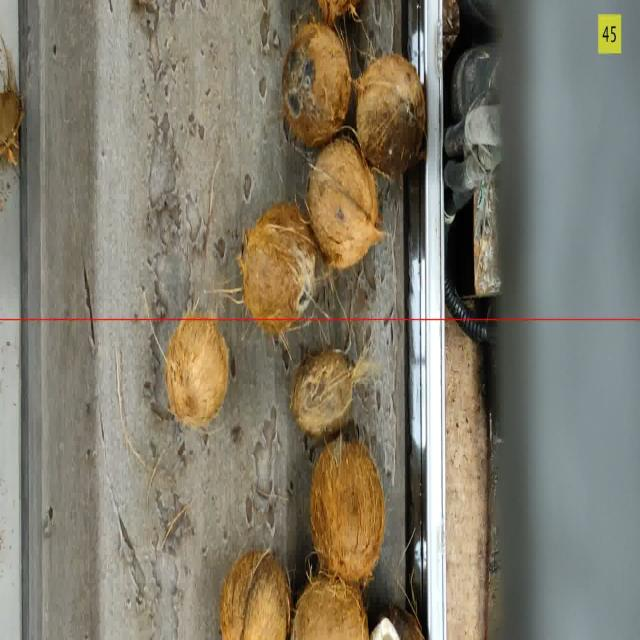Coconut-Conveyor-Belt: (310, 434, 384, 588), (356, 54, 426, 179), (246, 203, 314, 330), (280, 18, 348, 136), (310, 138, 372, 262), (168, 318, 228, 428), (220, 550, 289, 640), (290, 346, 354, 434), (293, 584, 365, 640)
